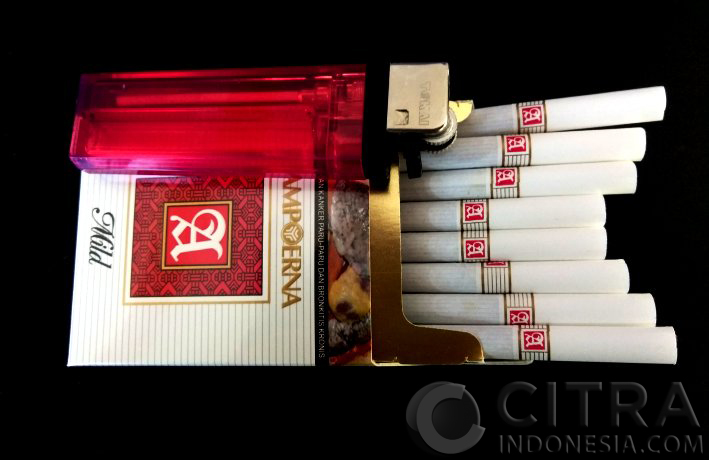A Mild: (80, 175, 310, 365)
